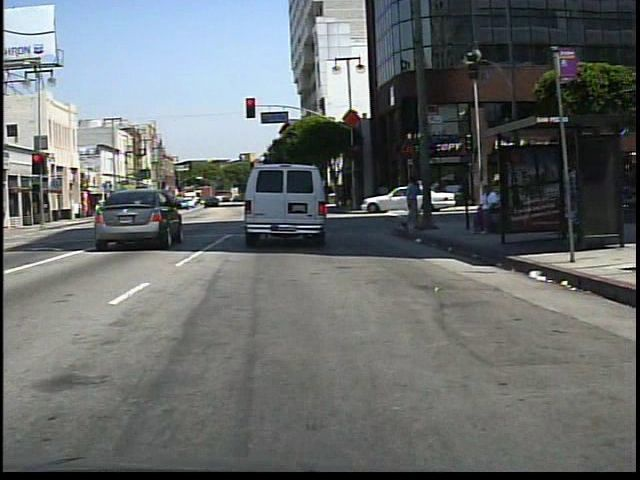person: (472, 182, 504, 237), (399, 172, 423, 233), (92, 193, 106, 219)
